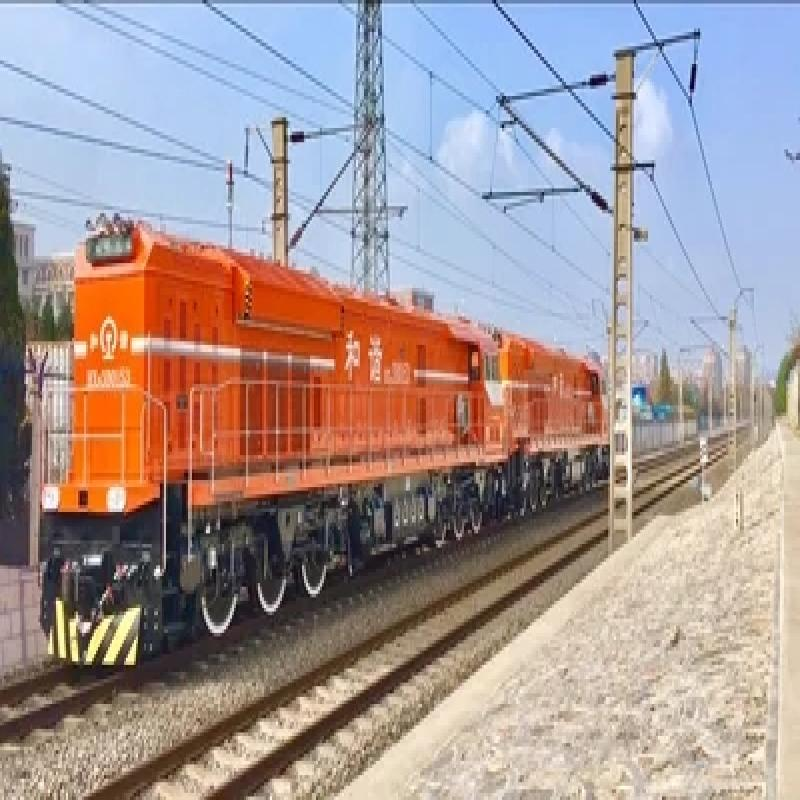train: (35, 207, 621, 680)
